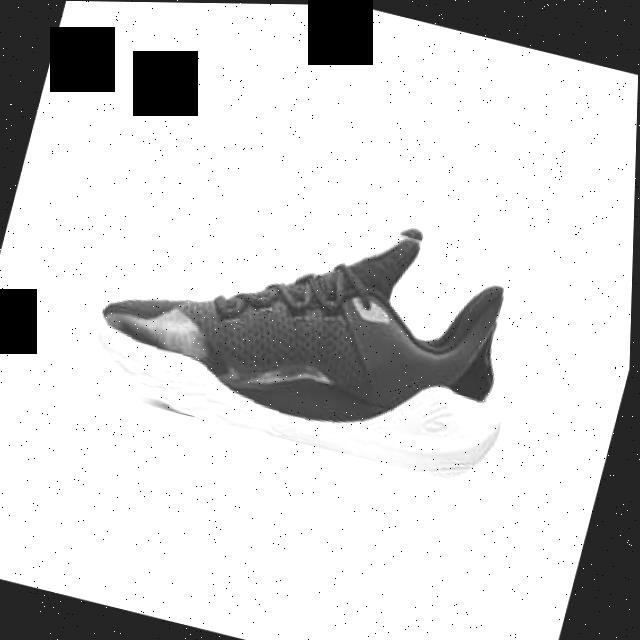shoe: (76, 158, 548, 488)
